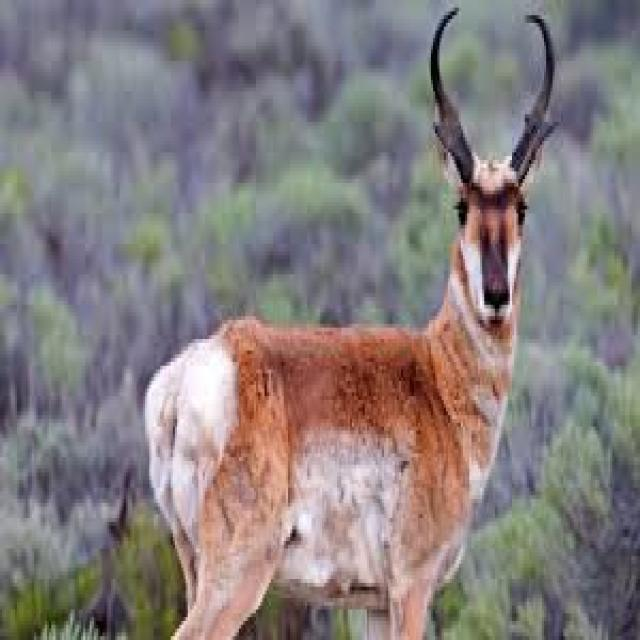Antelope: (141, 6, 561, 640)
